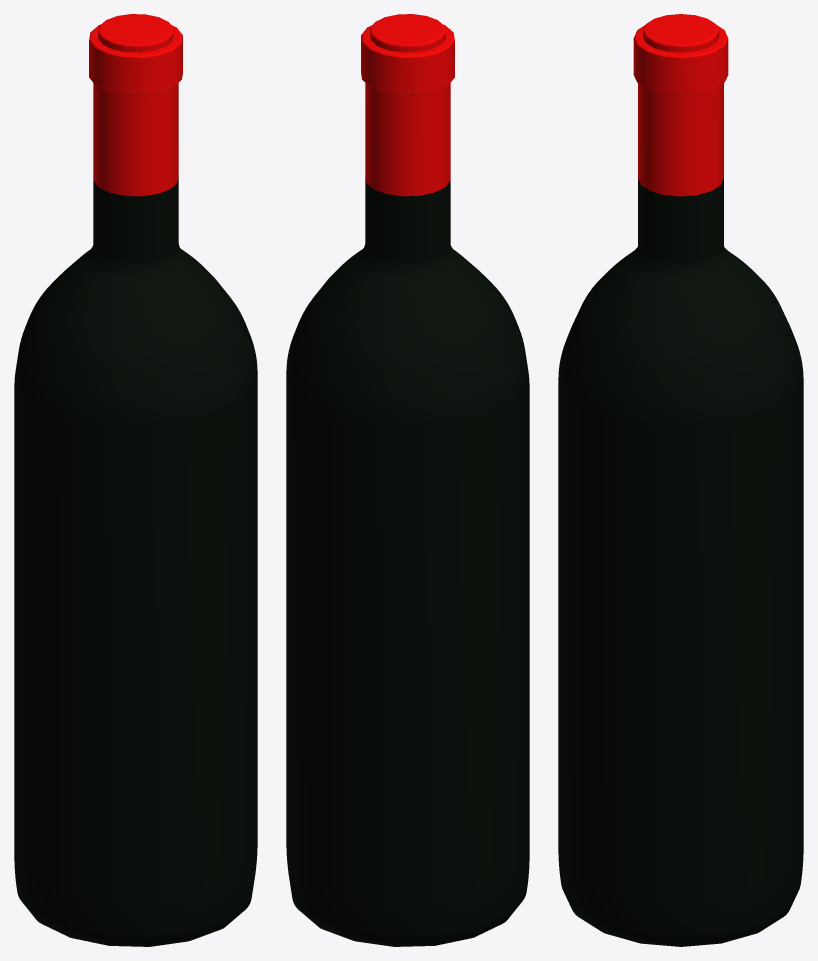
The model's file is WineBottle.fbx.
3 renders of one model, left to right at view 1: azimuth 30°, elevation 25°; view 2: azimuth 150°, elevation 25°; view 3: azimuth 270°, elevation 25°, orthographic.
Parts seen in each view (by area): view 1: WineBottle; view 2: WineBottle; view 3: WineBottle.
Part boxes in pixels (x1=…): WineBottle: x1=14, y1=14, x2=257, y2=946; WineBottle: x1=286, y1=14, x2=529, y2=946; WineBottle: x1=558, y1=14, x2=803, y2=946.
Size of the model in its own units: 9.16 by 36.32 by 9.16.
